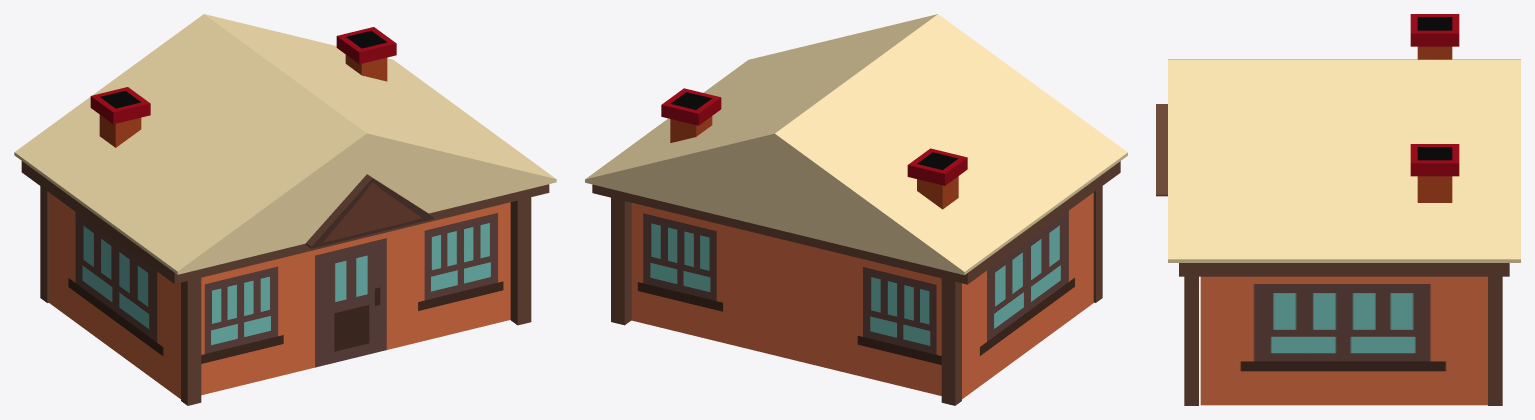
The model's file is Building #24.fbx.
3 views of the same model, side by side, from view 1: azimuth 30°, elevation 25°; view 2: azimuth 150°, elevation 25°; view 3: azimuth 270°, elevation 25° (orthographic). The views are drawn at different scales.
Parts seen in each view (by area): view 1: BuildingH; view 2: BuildingH; view 3: BuildingH.
Boxes of the visible parts, left/top/right/bottom form: BuildingH: left=14, top=14, right=556, bottom=405; BuildingH: left=585, top=14, right=1127, bottom=405; BuildingH: left=1156, top=14, right=1520, bottom=405.
Bounding box in the file's own units: 3677 × 2191 × 2835.
Materials: 1 (1 with a texture image).
